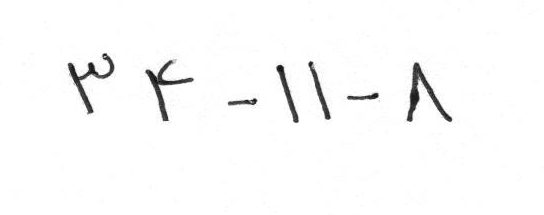character: (277, 64, 333, 123), (145, 60, 195, 124), (67, 53, 116, 115), (407, 61, 453, 125), (308, 60, 327, 121), (227, 98, 261, 112), (347, 92, 381, 103)
